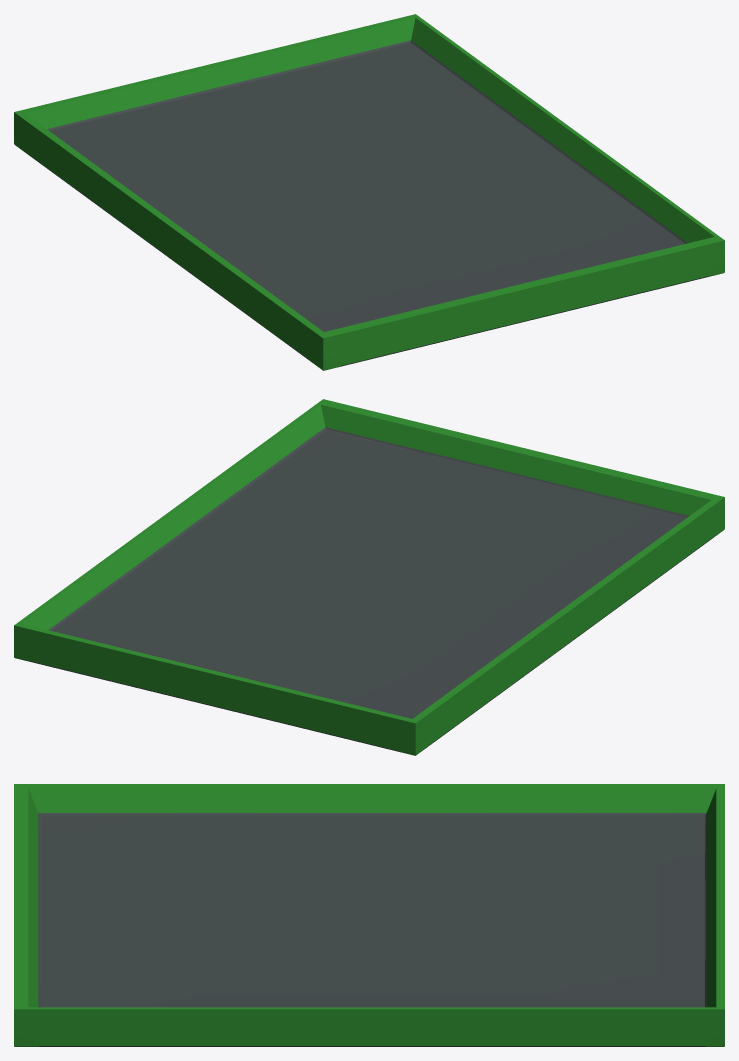
File: GreenTray01.fbx
3 renders of one model, top to bottom at view 1: azimuth 30°, elevation 25°; view 2: azimuth 150°, elevation 25°; view 3: azimuth 270°, elevation 25°, orthographic. The views are drawn at different scales.
Parts seen in each view (by area): view 1: polySurface2, polySurface1; view 2: polySurface2, polySurface1; view 3: polySurface2, polySurface1.
Part boxes in pixels (x1=…): polySurface2: x1=22, y1=40, x2=710, y2=366; polySurface1: x1=14, y1=14, x2=724, y2=370; polySurface2: x1=28, y1=427, x2=713, y2=751; polySurface1: x1=14, y1=399, x2=724, y2=755; polySurface2: x1=38, y1=813, x2=706, y2=1046; polySurface1: x1=14, y1=784, x2=724, y2=1046.
Bounding box in the file's own units: 30 × 2.36 × 40.
